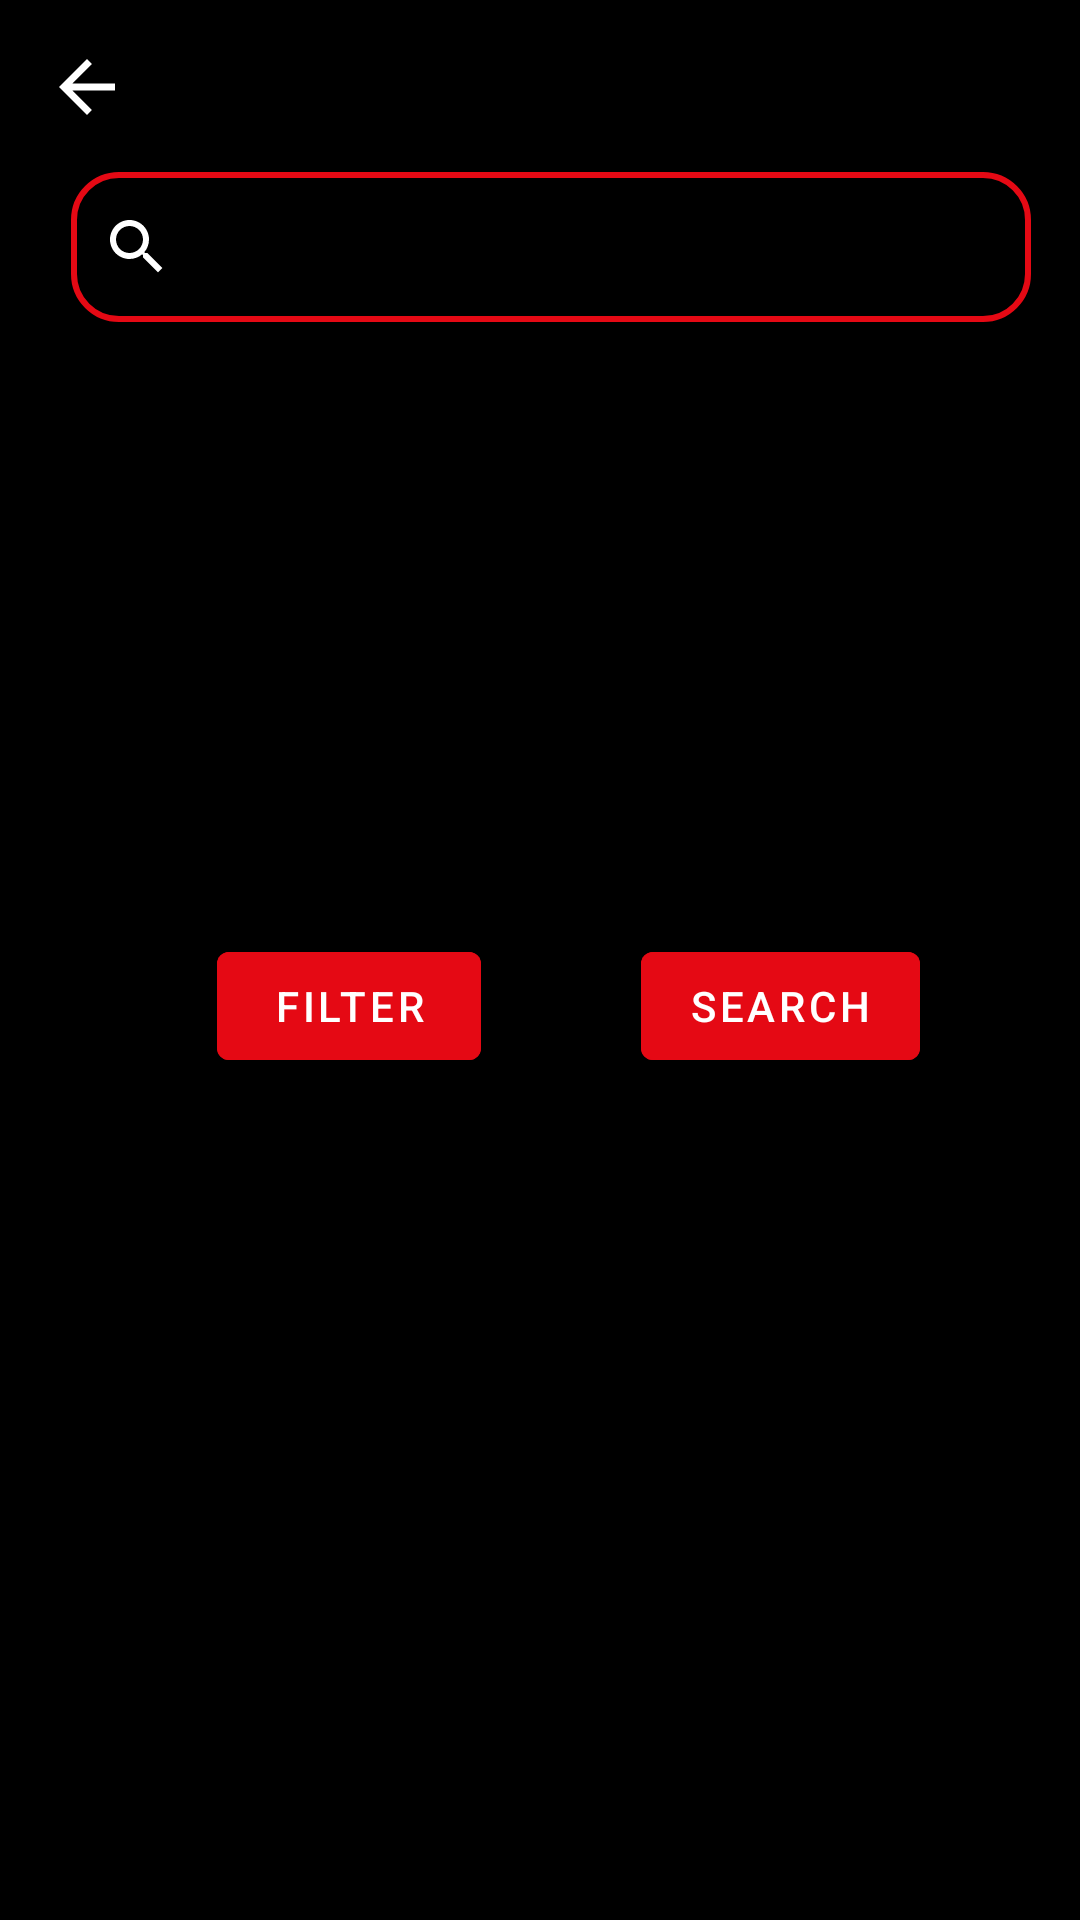

Named icons in this screenshot (1080 x 1920) and their centers, [x,y]:
back: [87,87]
